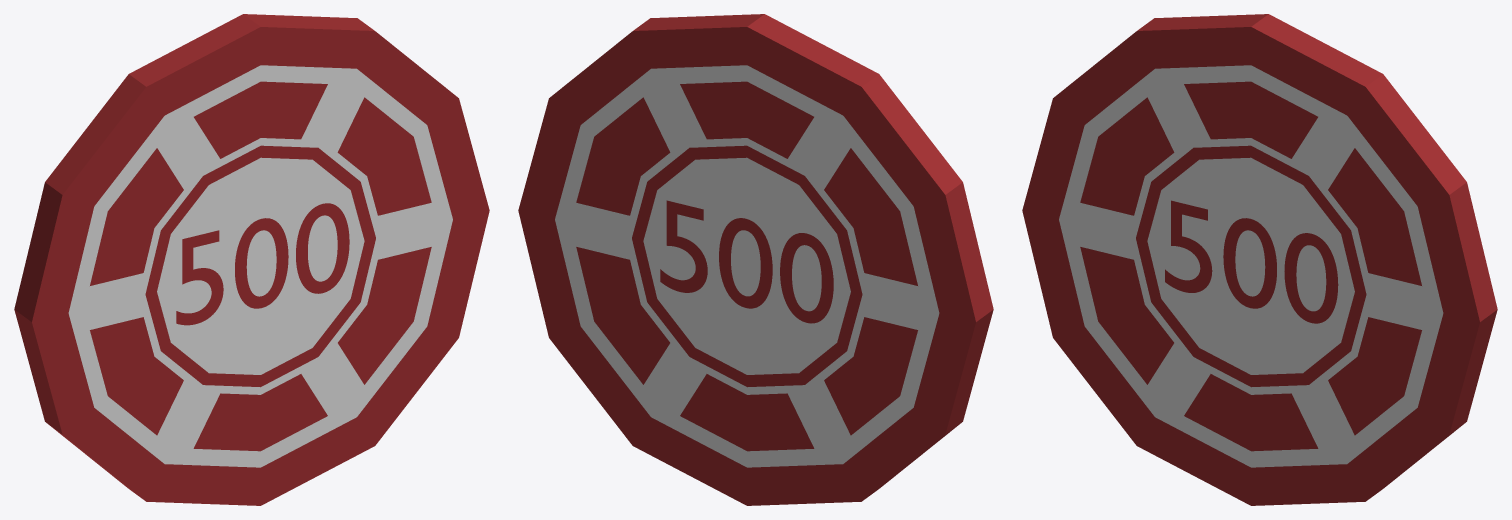
Rendered from 500 Chip.fbx.
The picture shows the model from 3 angles, left to right: view 1: azimuth 30°, elevation 25°; view 2: azimuth 150°, elevation 25°; view 3: azimuth 330°, elevation 25°; orthographic projection.
Visible parts, largest first — view 1: 500 Chip; view 2: 500 Chip; view 3: 500 Chip.
Part boxes in pixels (x1,y1,x2,y2): 500 Chip: [14, 14, 489, 505]; 500 Chip: [518, 14, 993, 505]; 500 Chip: [1022, 14, 1497, 505].
Bounding box in the file's own units: 30 × 30 × 2.2.
